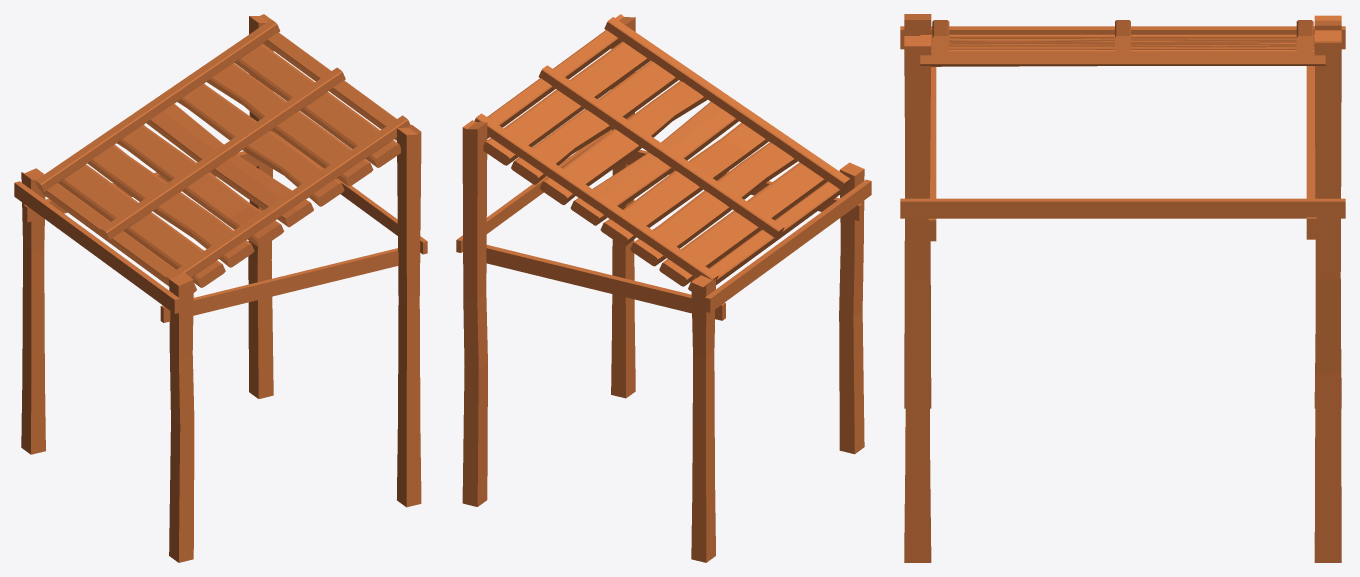
The model's file is Wood Base 5.glb.
3 views of the same model, side by side, from view 1: azimuth 30°, elevation 25°; view 2: azimuth 150°, elevation 25°; view 3: azimuth 270°, elevation 25° (orthographic). The views are drawn at different scales.
Parts seen in each view (by area): view 1: WoodBase3; view 2: WoodBase3; view 3: WoodBase3.
Boxes of the visible parts, left/top/right/bottom form: WoodBase3: left=14, top=14, right=427, bottom=562; WoodBase3: left=456, top=14, right=871, bottom=562; WoodBase3: left=900, top=14, right=1345, bottom=562.
Size of the model in its own units: 2 by 2.82 by 2.17.
